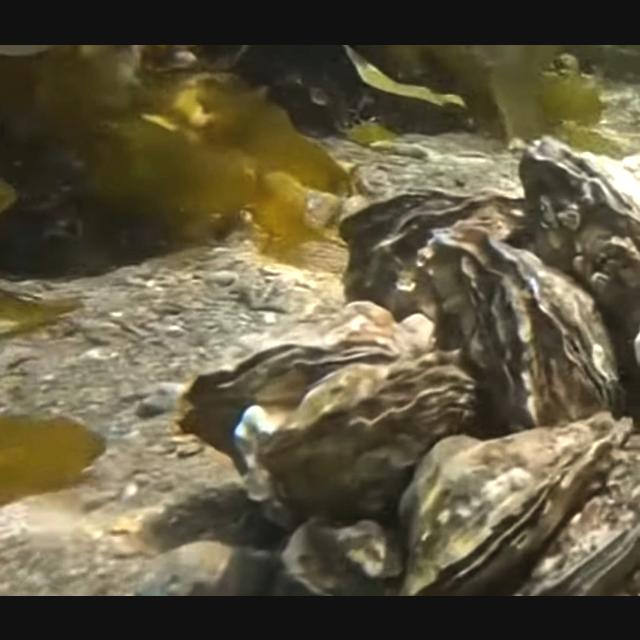Oyster-Closed: (232, 345, 478, 513), (452, 230, 622, 426)
Oyster-Open: (397, 410, 631, 596), (176, 334, 397, 474), (504, 133, 640, 321), (338, 186, 528, 320), (517, 488, 640, 595)
